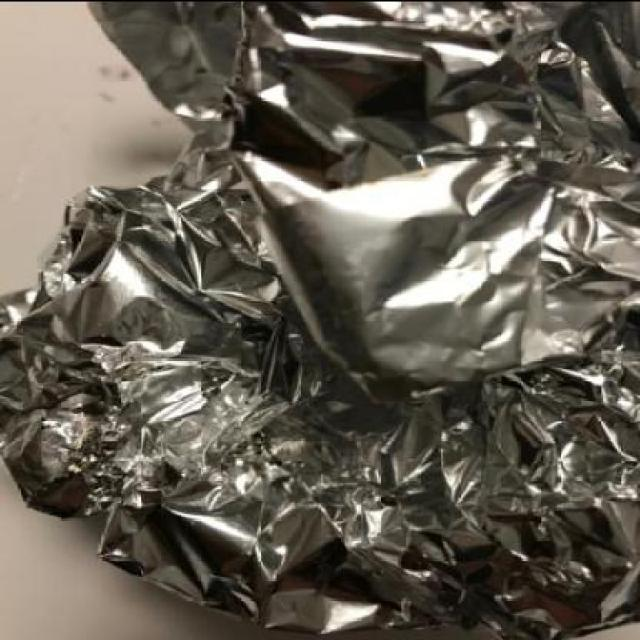METAL: (0, 1, 638, 640)
